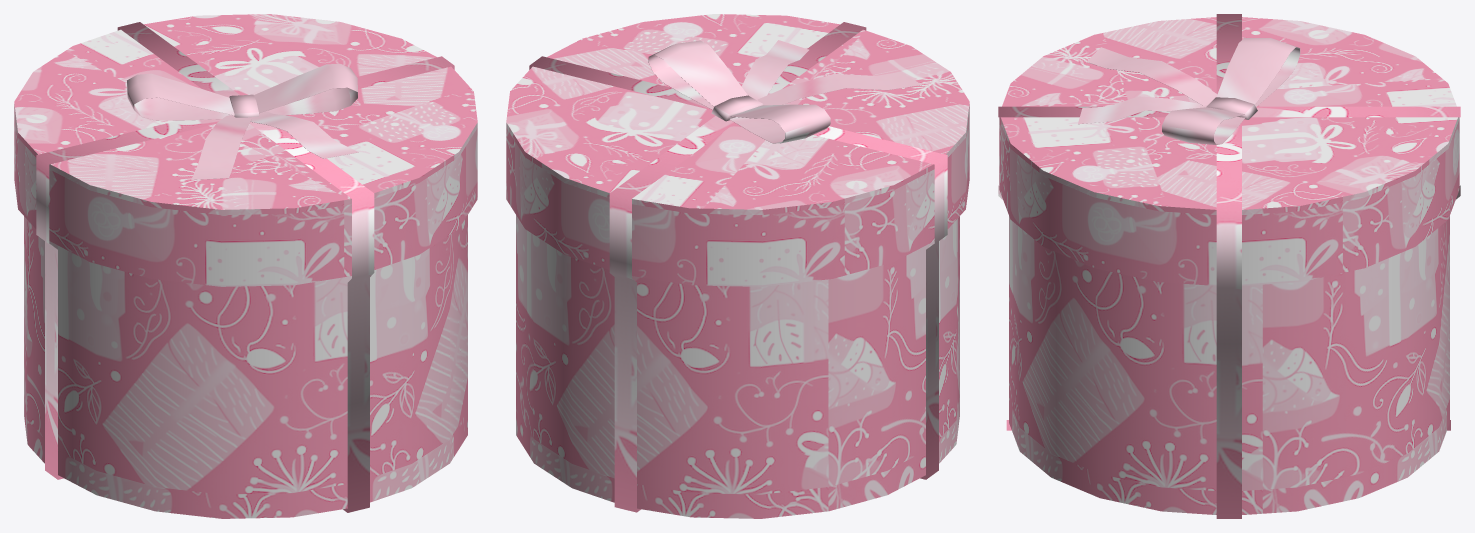
File: present 03.fbx
The picture shows the model from 3 angles, left to right: view 1: azimuth 30°, elevation 25°; view 2: azimuth 150°, elevation 25°; view 3: azimuth 270°, elevation 25°; orthographic projection.
Visible parts, largest first — view 1: present 03; view 2: present 03; view 3: present 03.
Part boxes in pixels (x1,y1,x2,y2): present 03: [14, 14, 477, 518]; present 03: [506, 14, 969, 518]; present 03: [998, 14, 1460, 518].
Size of the model in its own units: 0.8932 by 0.737 by 0.8935.
